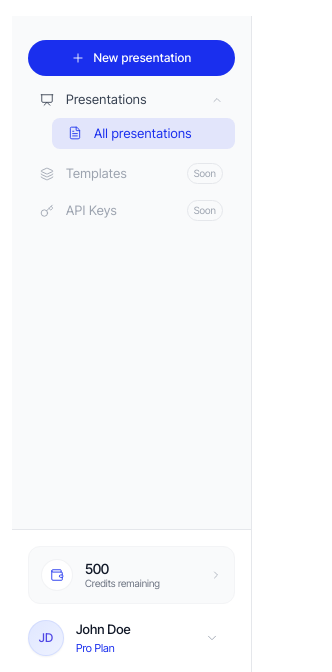
Test: Sidebar › Profile dropdown menu › should close menu on Escape key
Click the button "JD John Doe Pro Plan" at (124, 638), box x1=20 y1=612 x2=227 y2=664
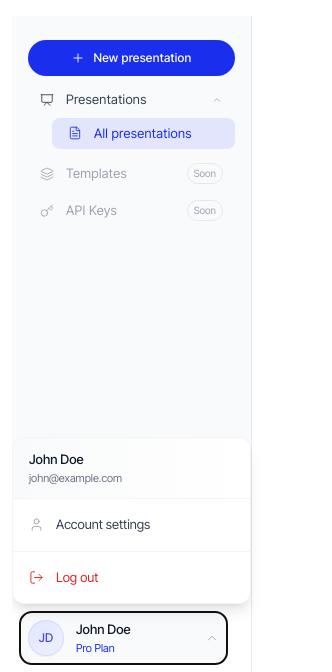
Expected: the text "Account settings" is shown, x1=56 y1=515 x2=150 y2=534
Press Escape
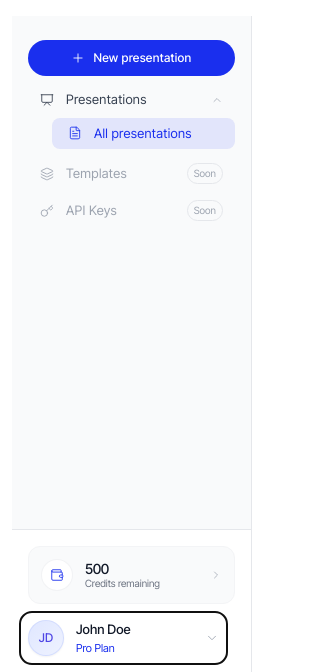
Expected: the link "Account settings" is gone
